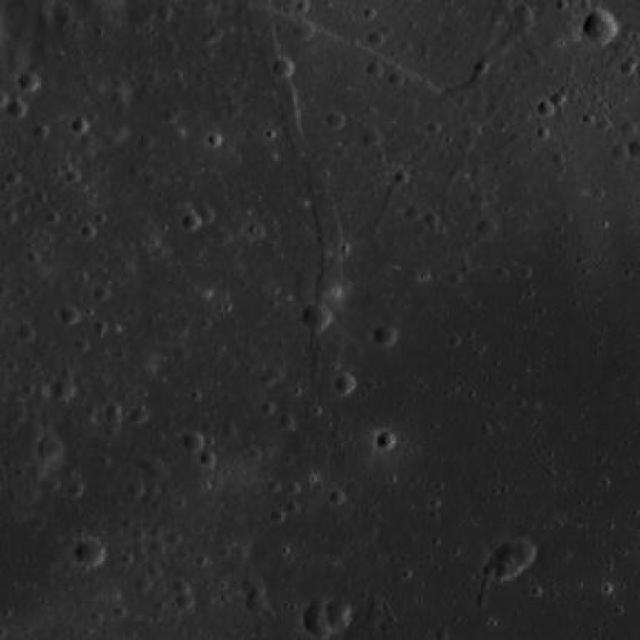crater: (302, 601, 340, 637), (581, 10, 617, 44), (72, 536, 105, 570), (504, 538, 536, 568), (302, 302, 332, 330), (38, 437, 64, 460), (374, 324, 397, 348), (326, 596, 349, 618), (51, 378, 74, 400), (333, 374, 356, 396), (496, 542, 518, 564), (16, 71, 38, 91), (326, 609, 348, 629), (182, 433, 204, 453), (477, 217, 497, 237), (293, 21, 313, 41), (273, 57, 293, 77), (6, 98, 26, 118), (244, 593, 264, 613), (376, 430, 396, 450), (174, 592, 194, 610), (60, 305, 78, 324), (125, 478, 144, 496), (362, 128, 380, 146), (326, 110, 343, 128), (182, 213, 200, 230), (200, 452, 217, 470), (146, 458, 163, 476), (266, 364, 283, 382), (246, 222, 265, 238), (536, 98, 553, 115), (198, 205, 215, 222), (494, 563, 511, 580), (16, 324, 33, 341), (93, 283, 110, 300), (134, 576, 152, 592), (366, 62, 383, 78), (72, 117, 88, 134), (130, 406, 147, 422), (32, 383, 49, 399), (138, 133, 154, 149), (148, 538, 164, 554), (174, 578, 188, 594), (44, 476, 60, 490)
